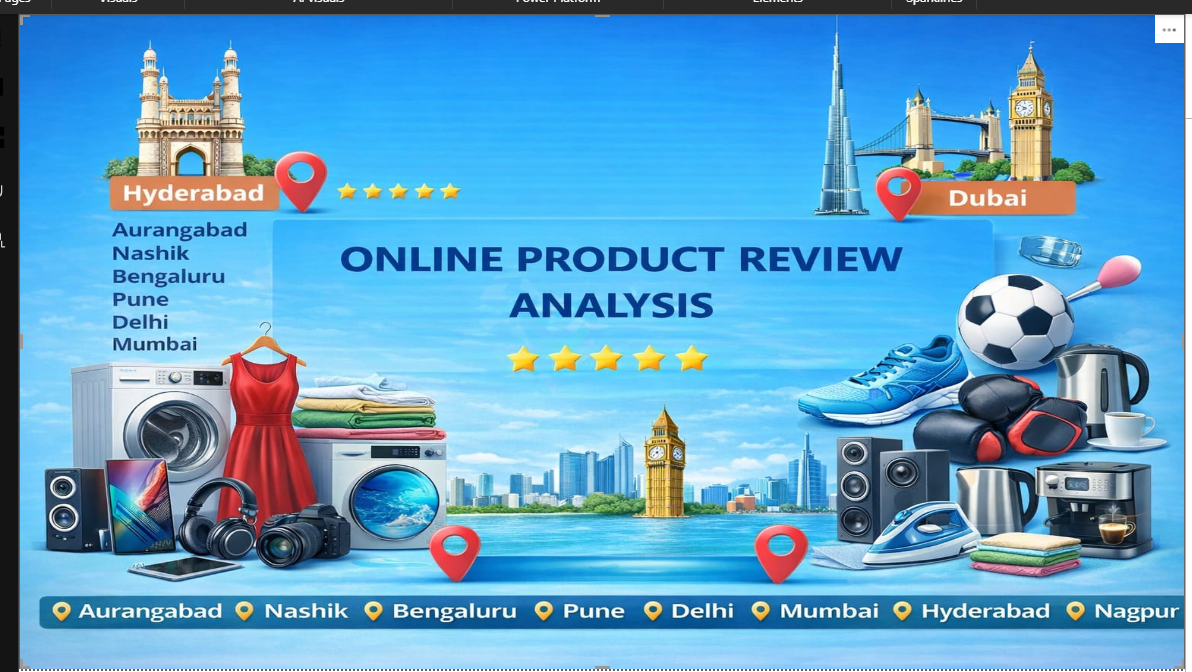

The page's visual inventory and layout, read from the dashboard file:
{"tool":"powerbi","page":{"name":"Page 1","canvas":[1280,720],"ordinal":0},"visuals":[{"type":"image","box":[0,0,1280.3,720.4],"z":0}]}

Visuals, with their boxes on the page's 1280x720 design canvas (x1, y1, x2, y2). These are canvas units, not pixel positions in the 1192x672 screenshot, which may show the page scaled, cropped or inside an application window:
image: [x1=0, y1=0, x2=1280, y2=720]
